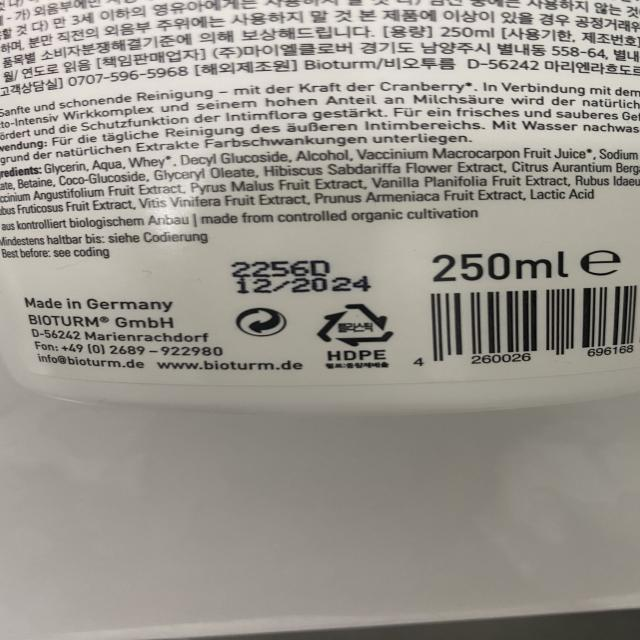Plastic: (316, 297, 398, 350)
